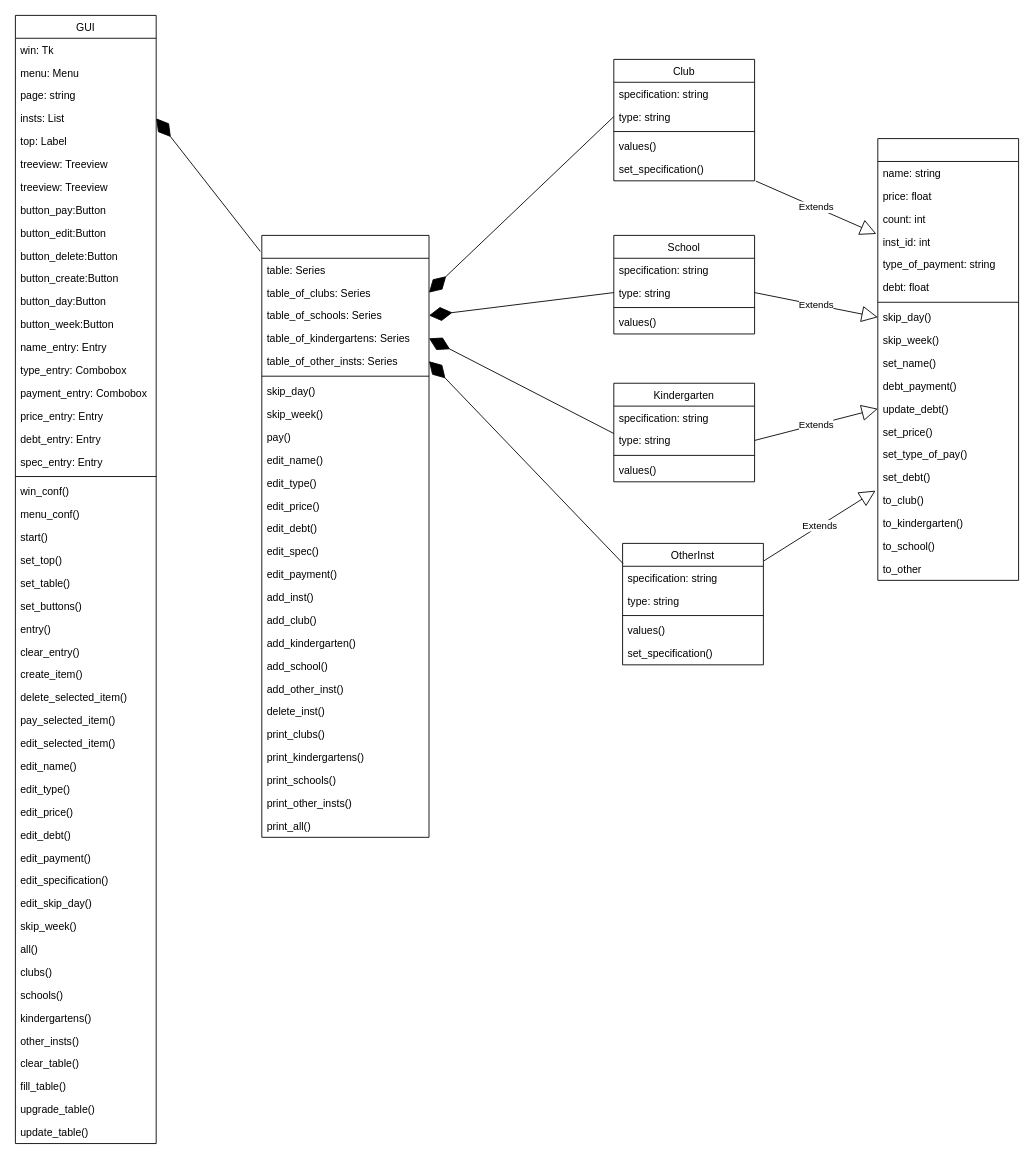
Image size: 1034x1162. Some labels were removed from this diagram. The shapes that lost their labels are listed below. From the top down, each one's box as (x1, y1, x2, y2) in pixels, then its label:
(877, 138, 1019, 580): Institution
(261, 235, 429, 837): List
